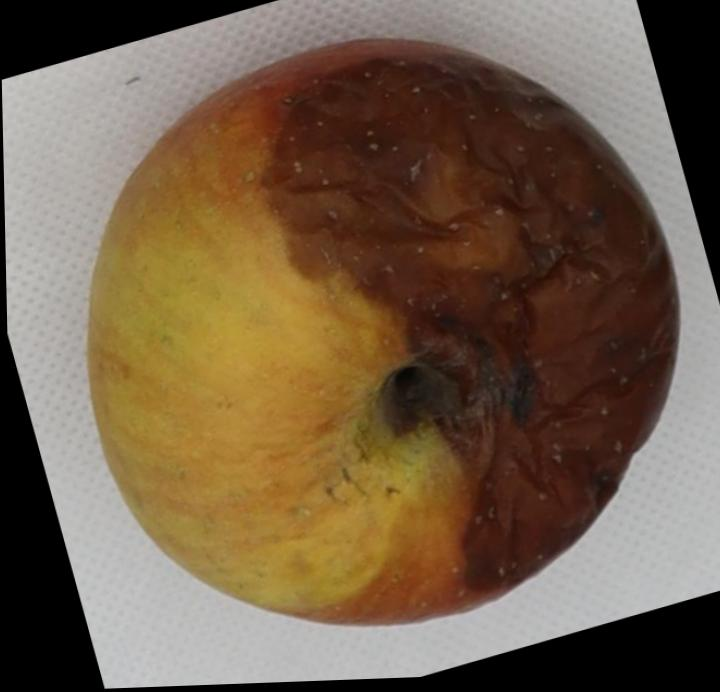apple: (90, 39, 678, 624)
rot_mold_decay: (258, 39, 680, 612)
surface_damage: (342, 466, 368, 496), (326, 486, 346, 501), (386, 486, 402, 494)
